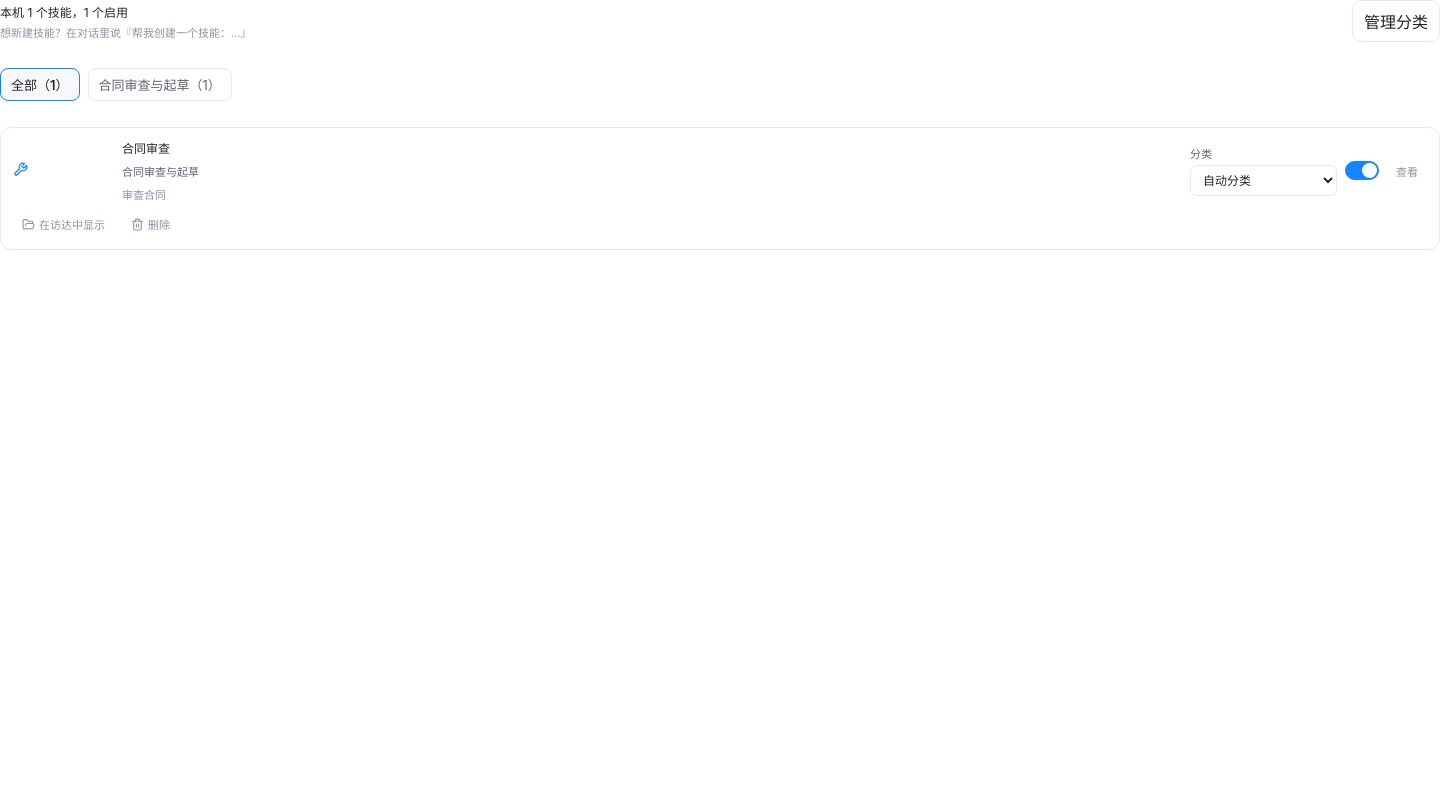
Test: creates a category and assigns a skill, then allows returning to automatic classification
Click the button "管理分类" at {"x": 1396, "y": 21}, box [1352,0,1439,42]
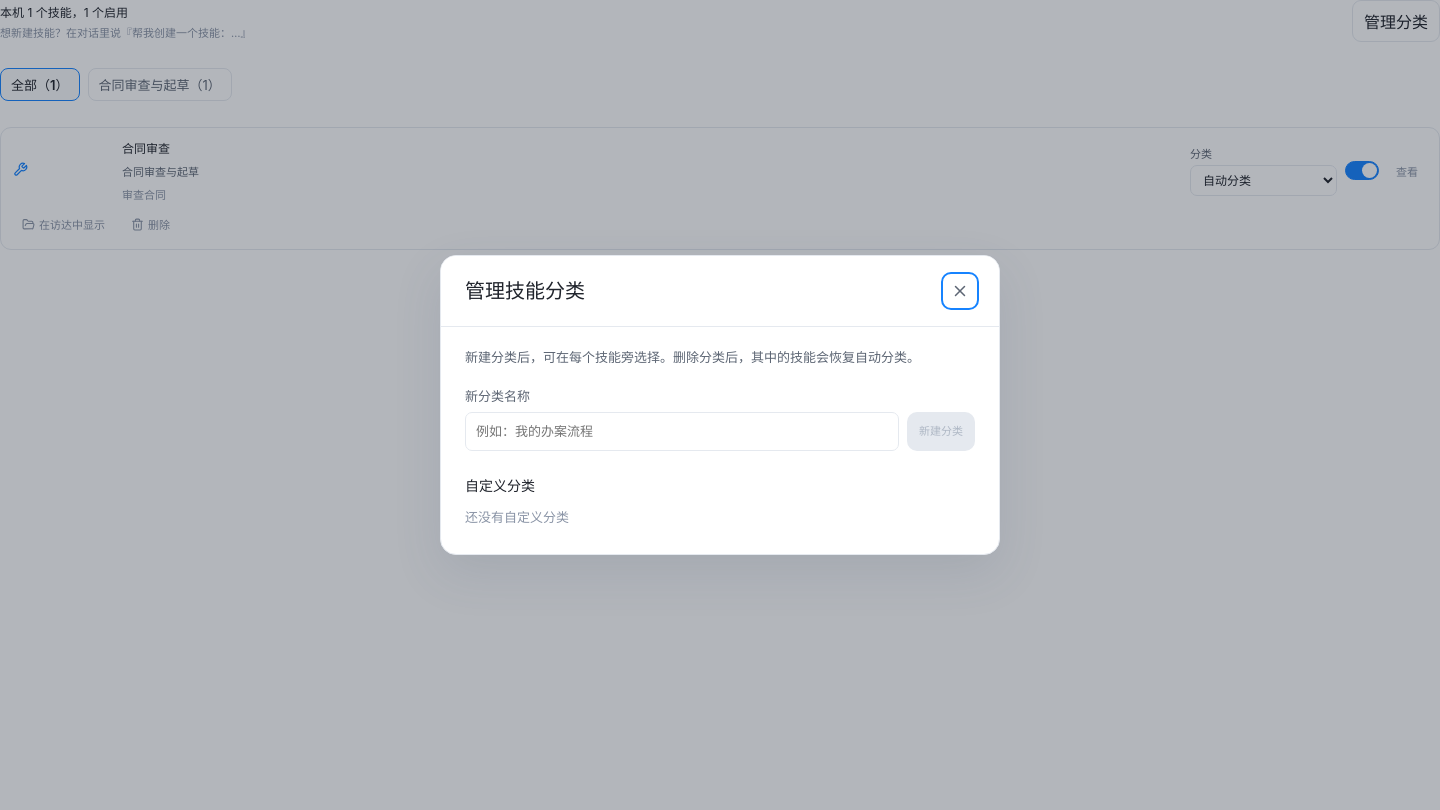
Type "我的办案" into the field labelled "新分类名称" at {"x": 682, "y": 432}, box [465,412,899,451]
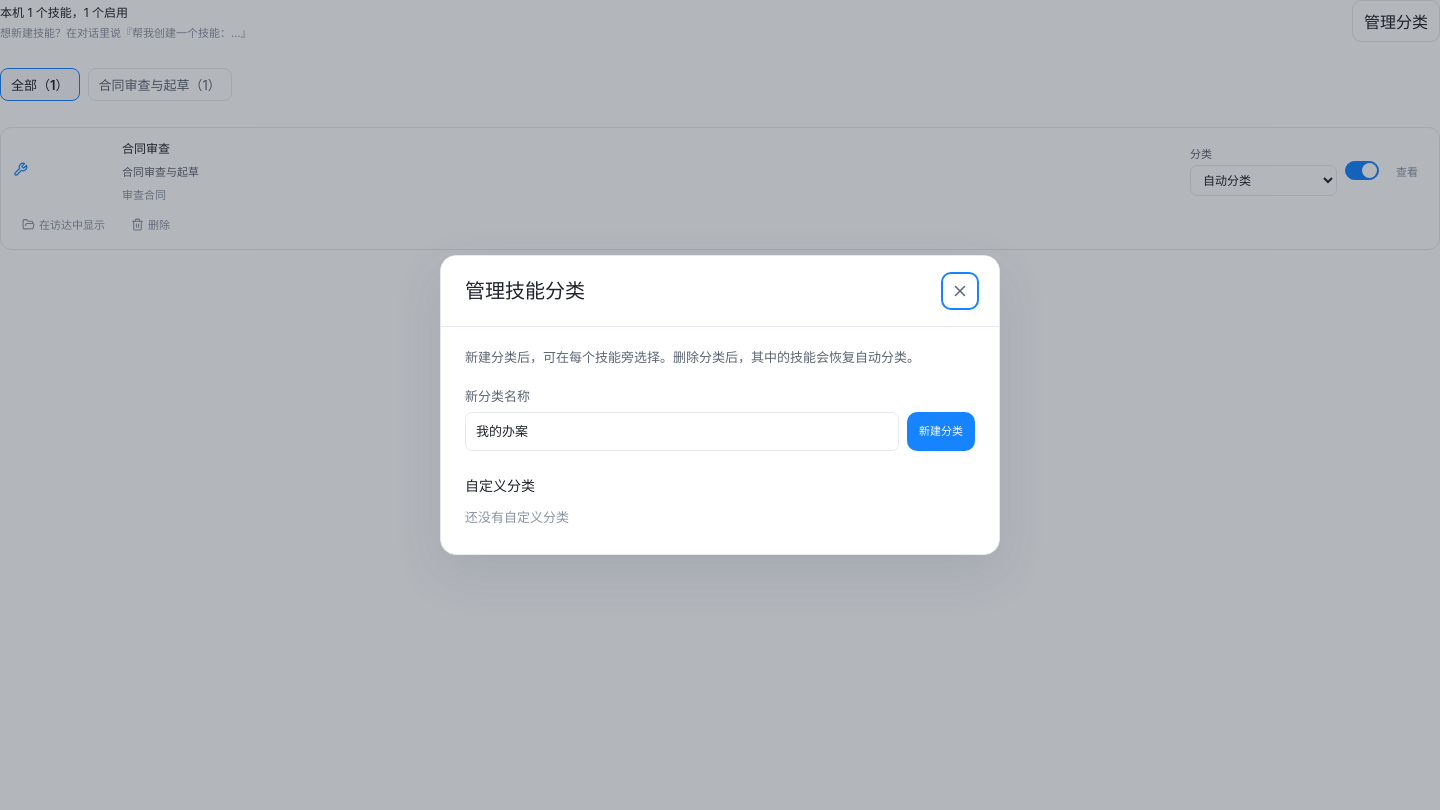
Click the button "新建分类" at {"x": 941, "y": 432}, box [907,412,975,451]
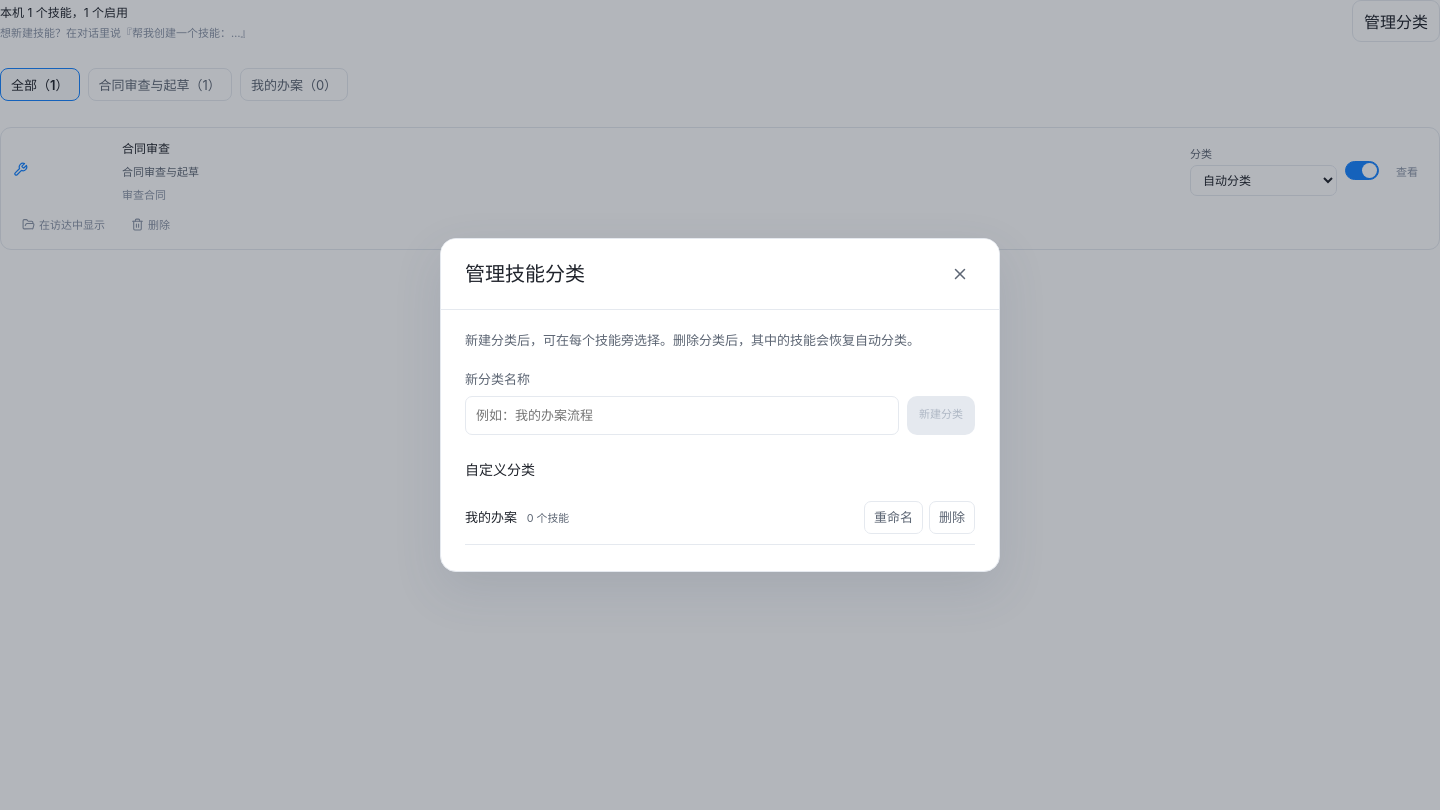
Result: the text "0 个技能" is shown at [527,512,569,525]
Click the button named "关闭" at {"x": 960, "y": 274}, box [945,259,975,289]
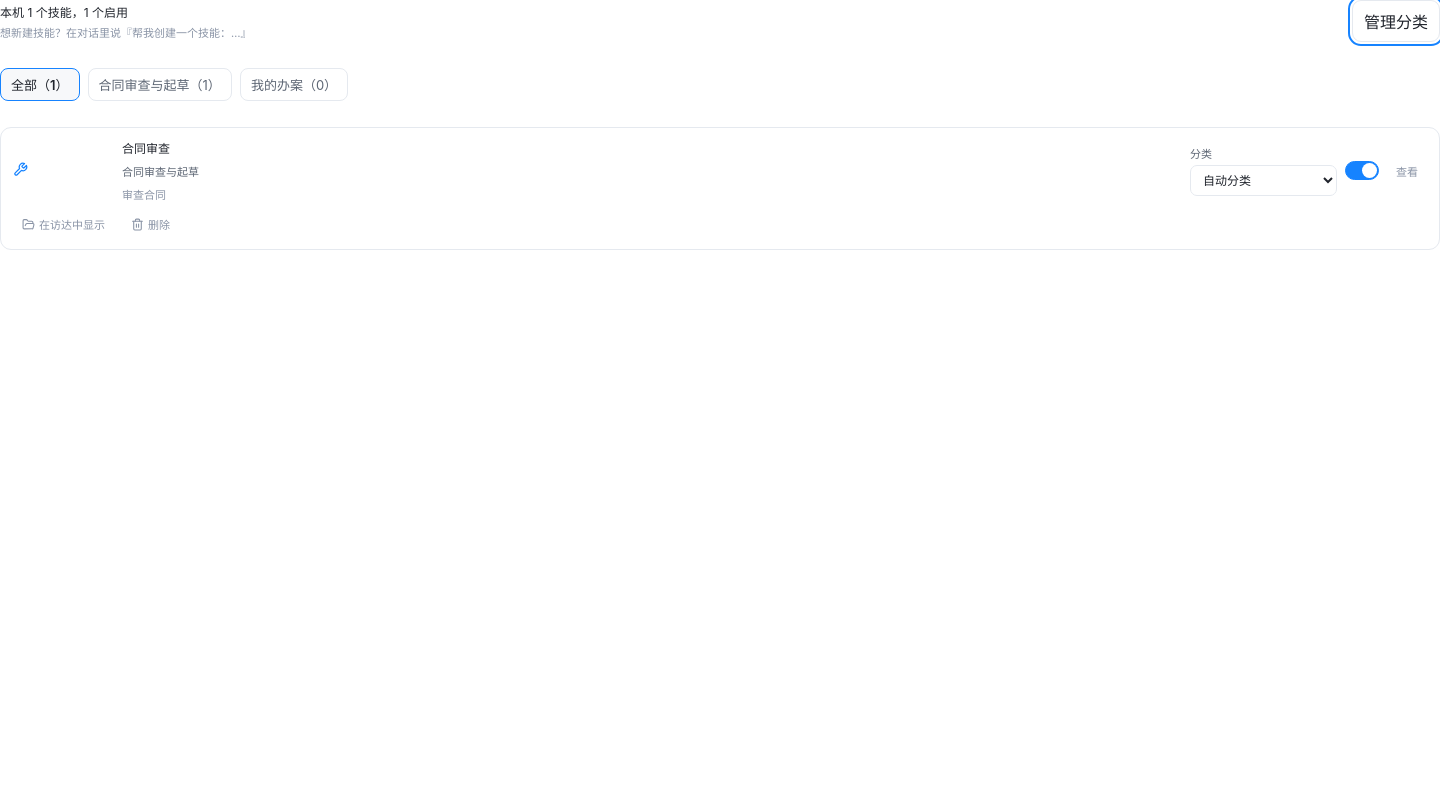
Select "我的办案" in the dropdown named "选择技能 合同审查 的分类" at {"x": 1264, "y": 180}, box [1190,165,1337,196]
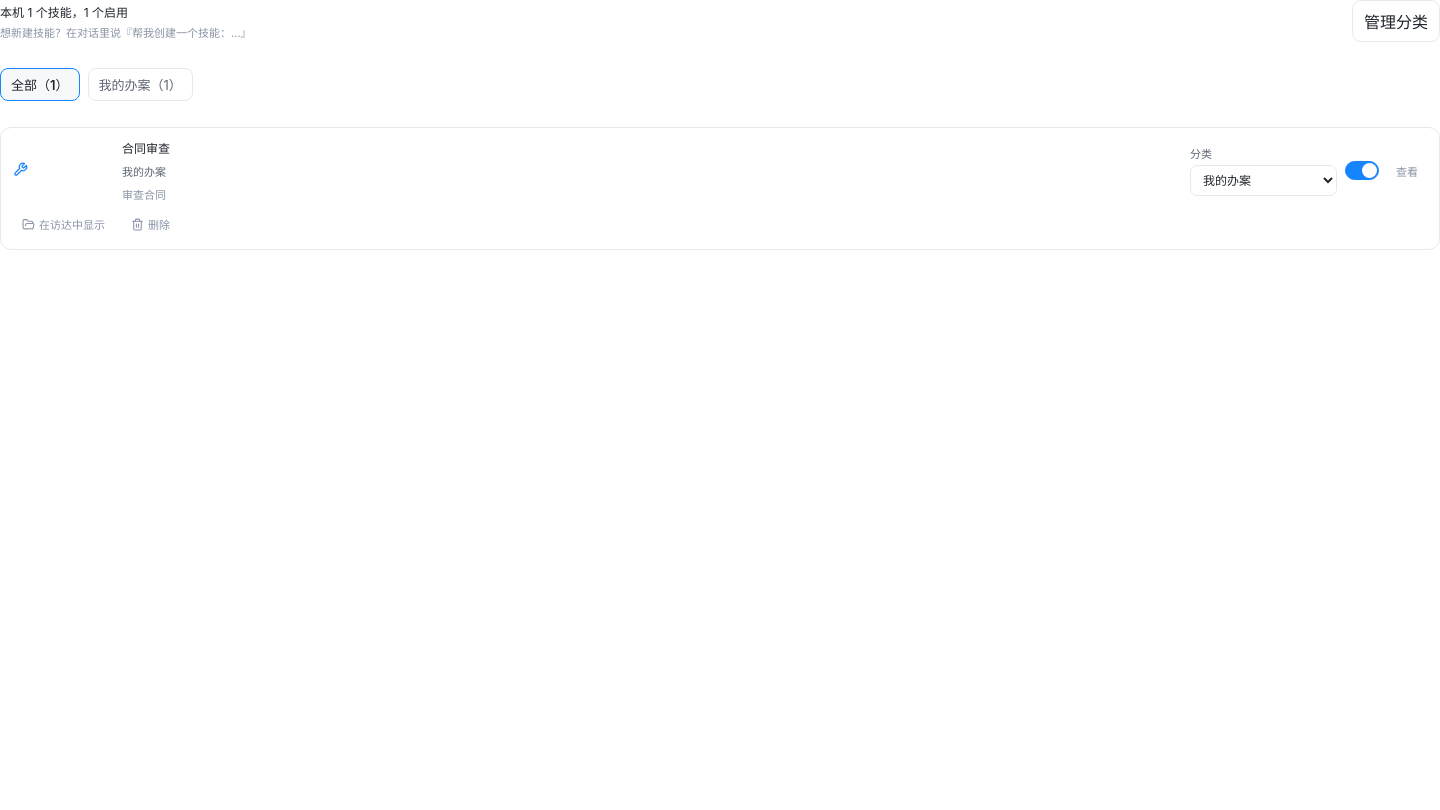
Result: the button "我的办案（1）" is shown at [88,68,193,101]
Select "自动分类" in the dropdown named "选择技能 合同审查 的分类" at {"x": 1264, "y": 180}, box [1190,165,1337,196]
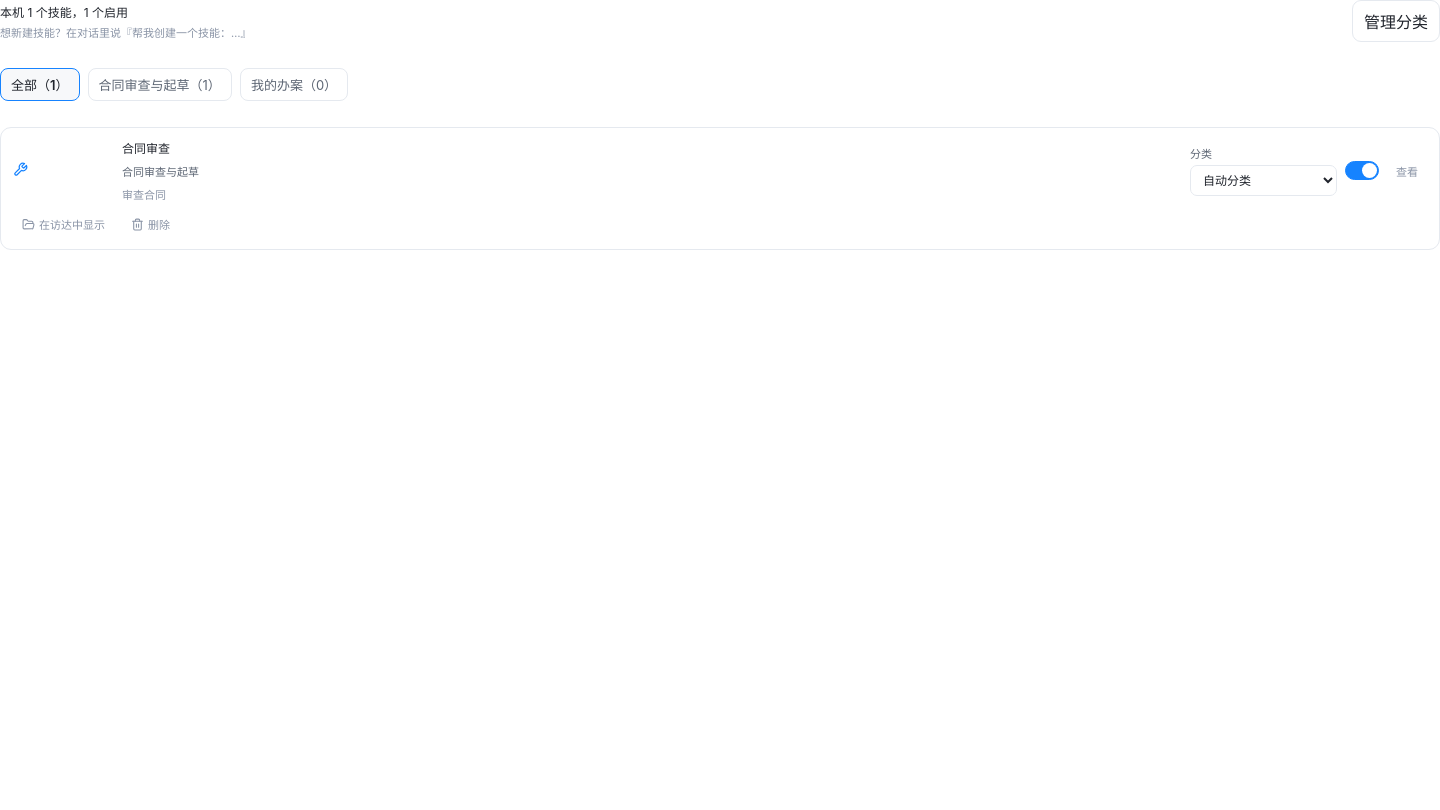
Result: the button "合同审查与起草（1）" is shown at [88,68,232,101]
